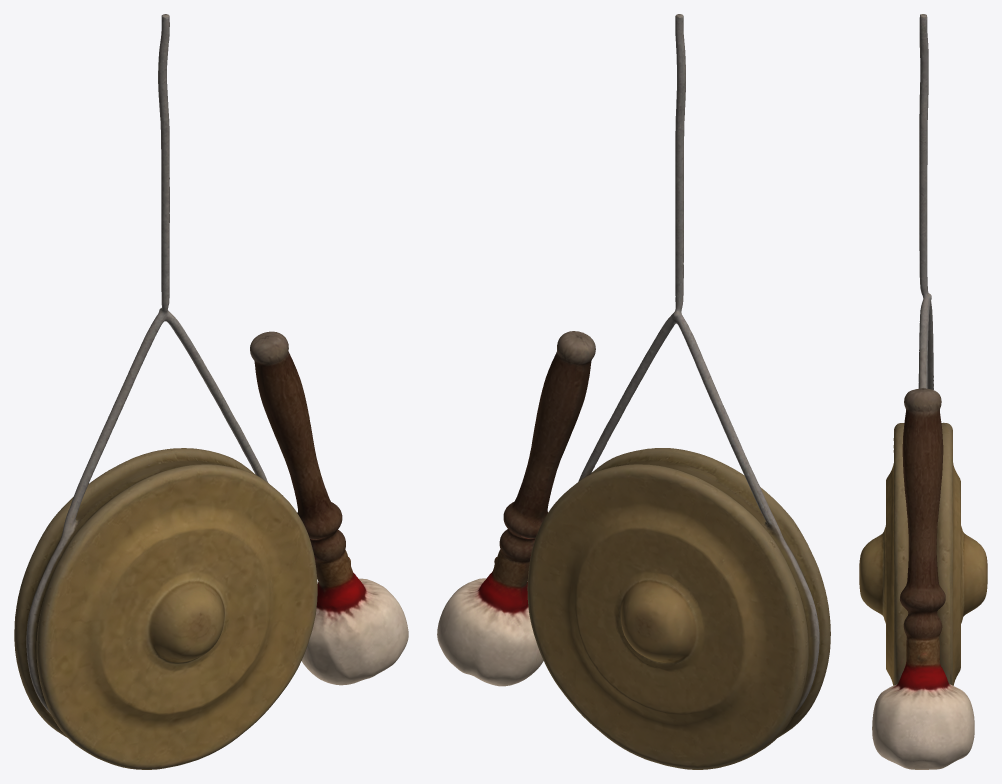
Rendered from kempul.glb.
The picture shows the model from 3 angles, left to right: view 1: azimuth 30°, elevation 25°; view 2: azimuth 150°, elevation 25°; view 3: azimuth 270°, elevation 25°; orthographic projection. The views are drawn at different scales.
Parts seen in each view (by area): view 1: mesh_node; view 2: mesh_node; view 3: mesh_node.
Part boxes in pixels (left/top/right/bottom): mesh_node: left=14, top=14, right=408, bottom=769; mesh_node: left=437, top=14, right=830, bottom=769; mesh_node: left=859, top=14, right=987, bottom=769.
Size of the model in its own units: 1 by 1.9 by 0.3156.
Materials: 1 (1 with a texture image).
